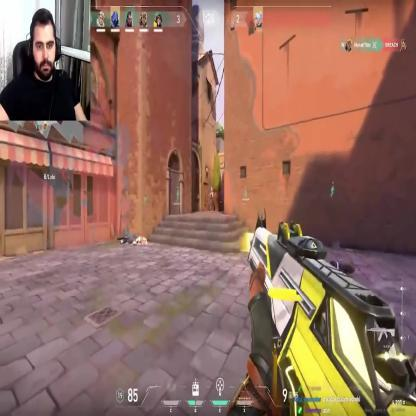enemy: (209, 186, 214, 212)
enemy_head: (210, 186, 213, 192)
